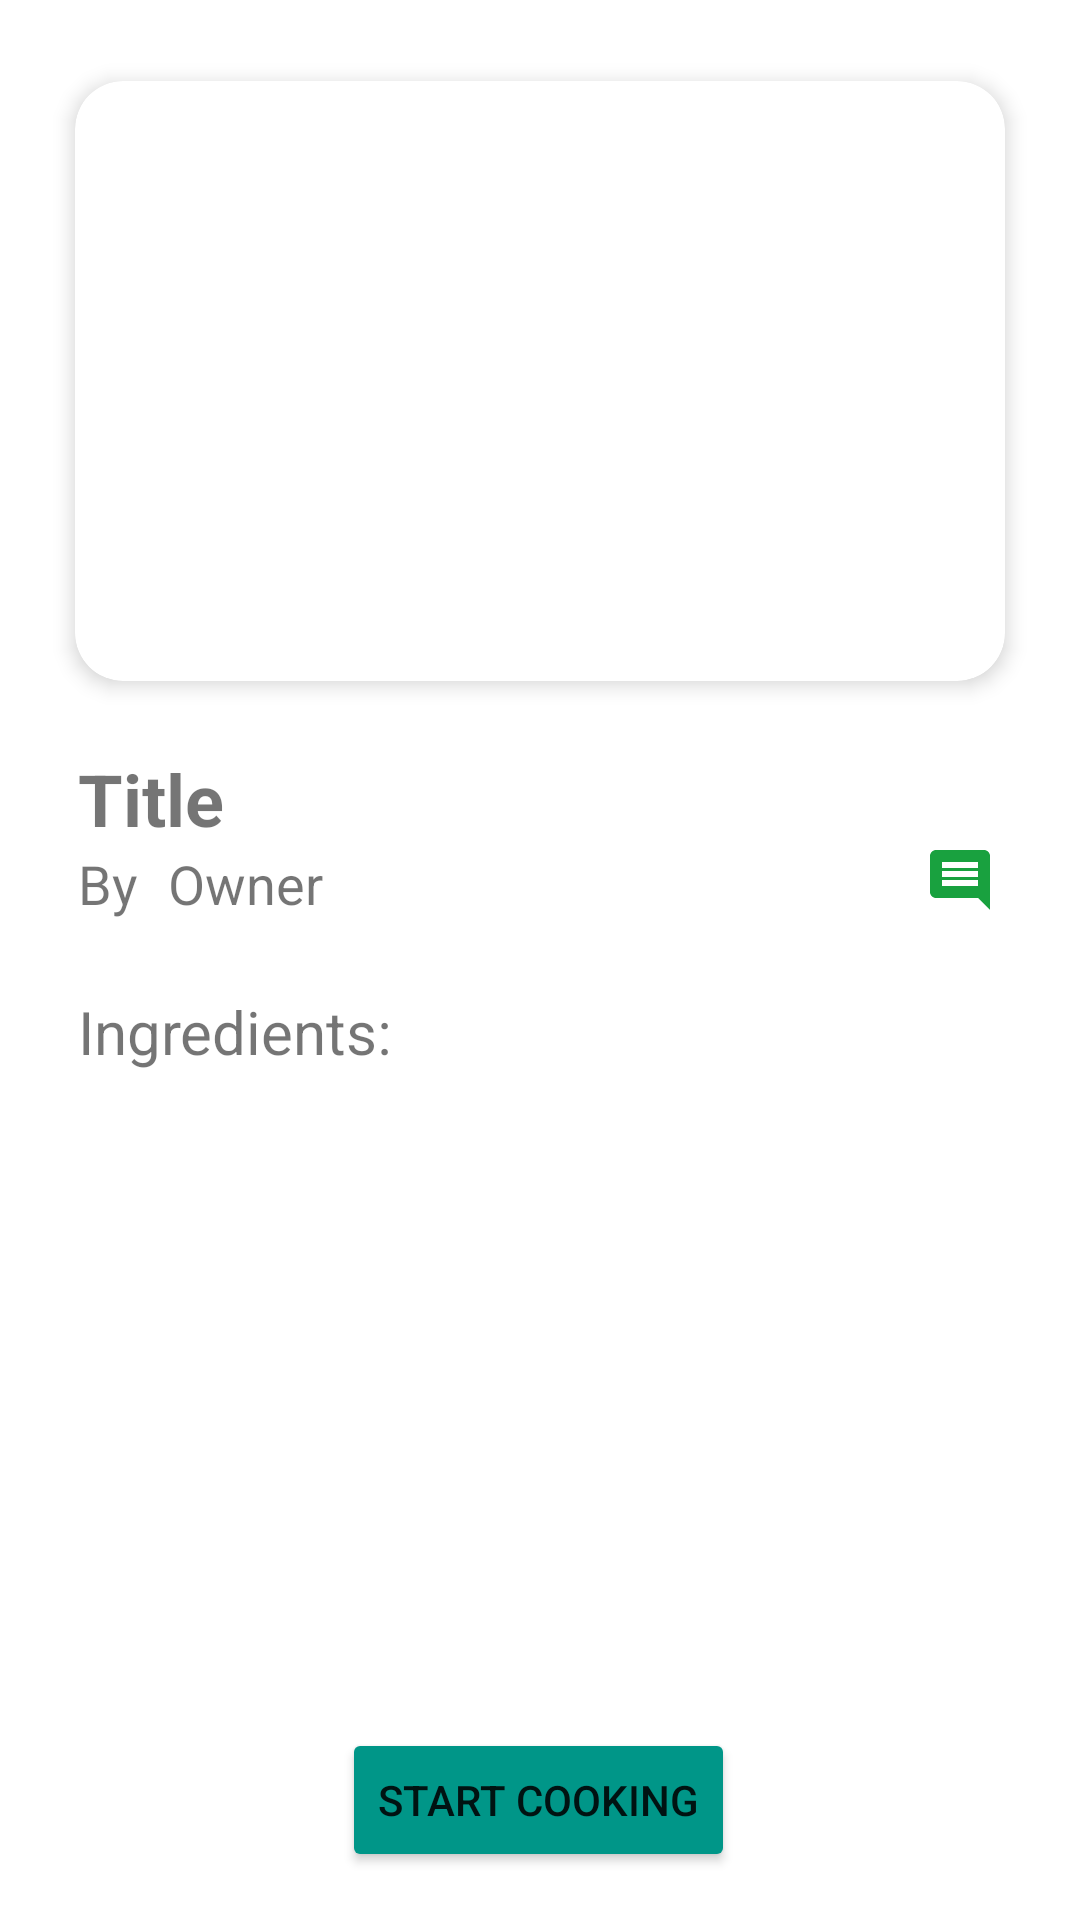

Icon bounding boxes for this 1080px x 1920px phone screenshot, format [x1,y1,x2,y2]:
insert comment: [930,850,990,910]
